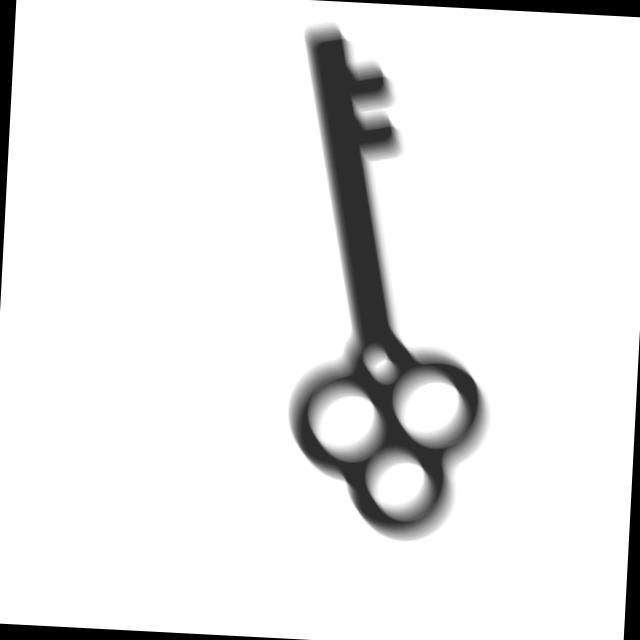key: (282, 20, 516, 550)
